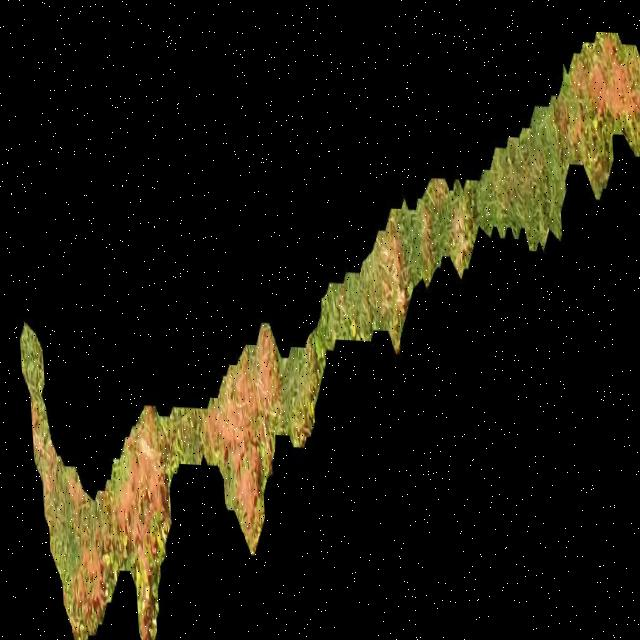Weed: (16, 25, 640, 640)
